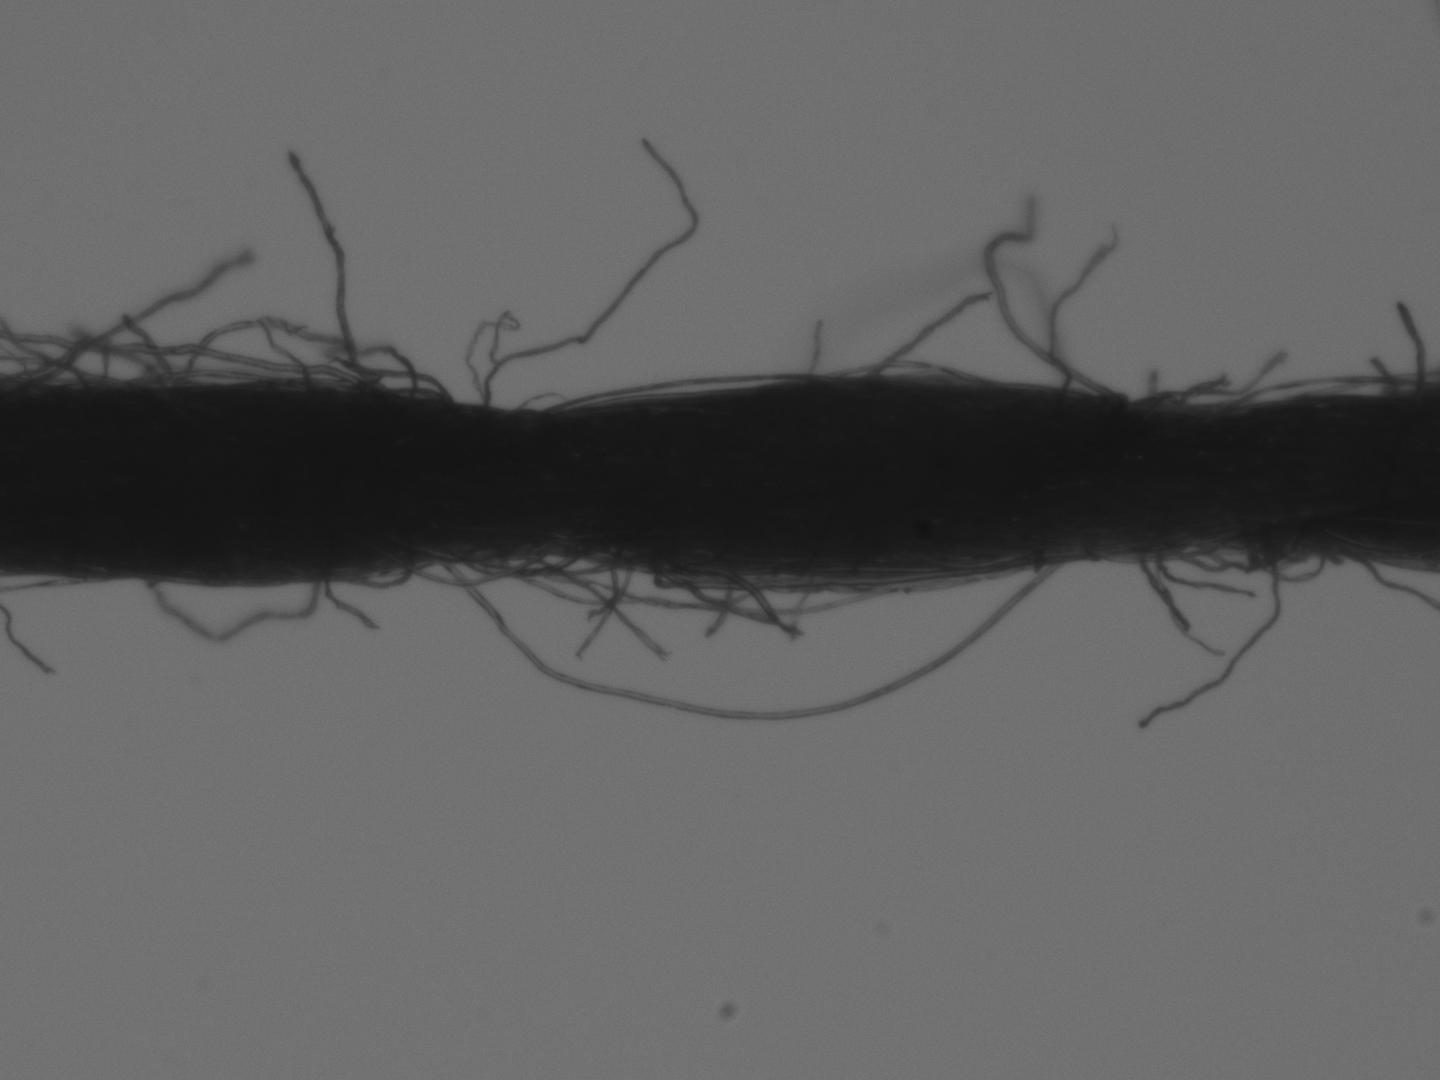loop_fiber: (439, 543, 1061, 731), (523, 547, 890, 623), (179, 312, 417, 400), (139, 574, 320, 646), (551, 370, 842, 406), (6, 331, 160, 388), (457, 541, 646, 582), (407, 542, 545, 591), (1170, 537, 1299, 577), (1244, 529, 1330, 584), (1389, 294, 1433, 400), (811, 364, 1000, 388), (325, 556, 416, 591)
protruding_fiber: (864, 284, 998, 382), (1149, 546, 1267, 606)
